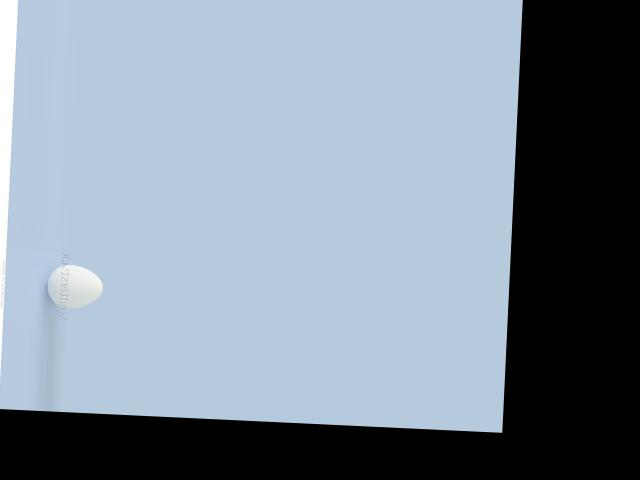egg: (46, 263, 104, 309)
